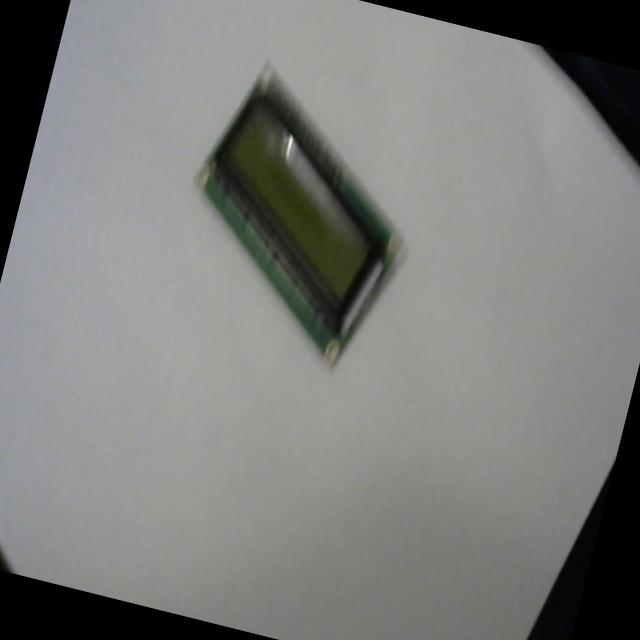lcd: (158, 48, 438, 378)
